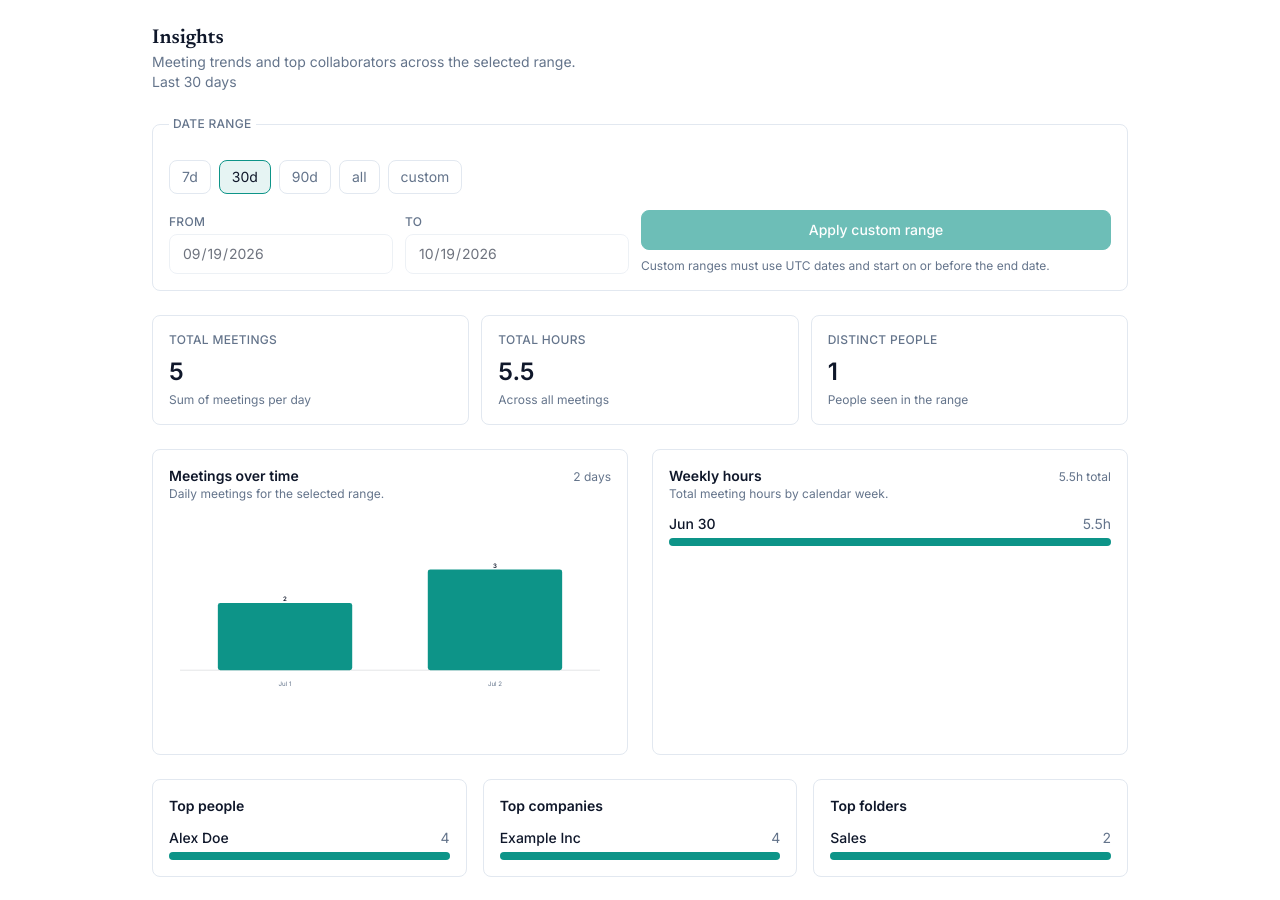
InsightsScreen › reloads insights when a custom range is applied
The width and height of the screenshot is (1280, 900).
Click the button "custom" at (425, 177), box [388,160,462,194]
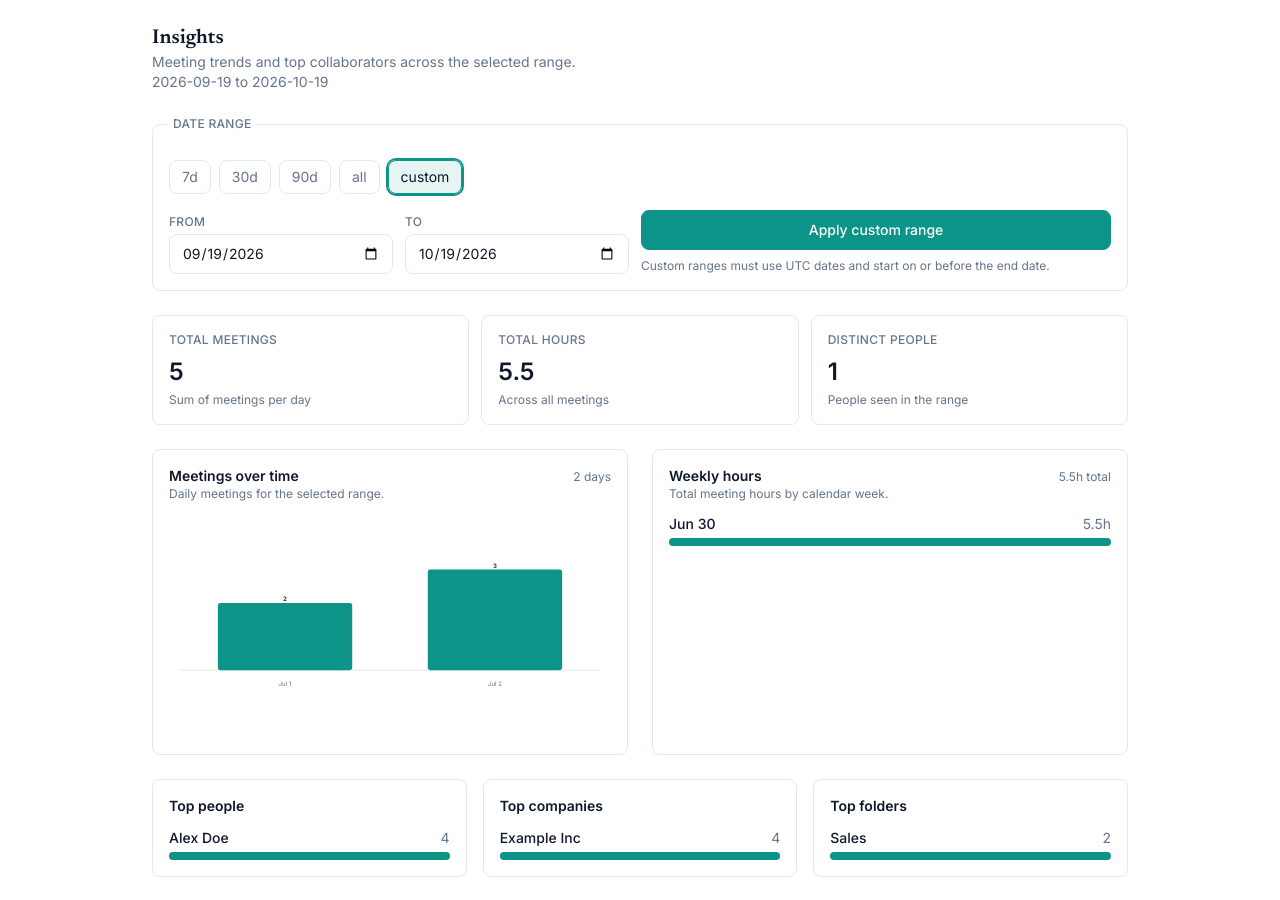
Type "2026-06-01" into the date field named "Custom range start date" at (281, 254), box [169,234,393,274]
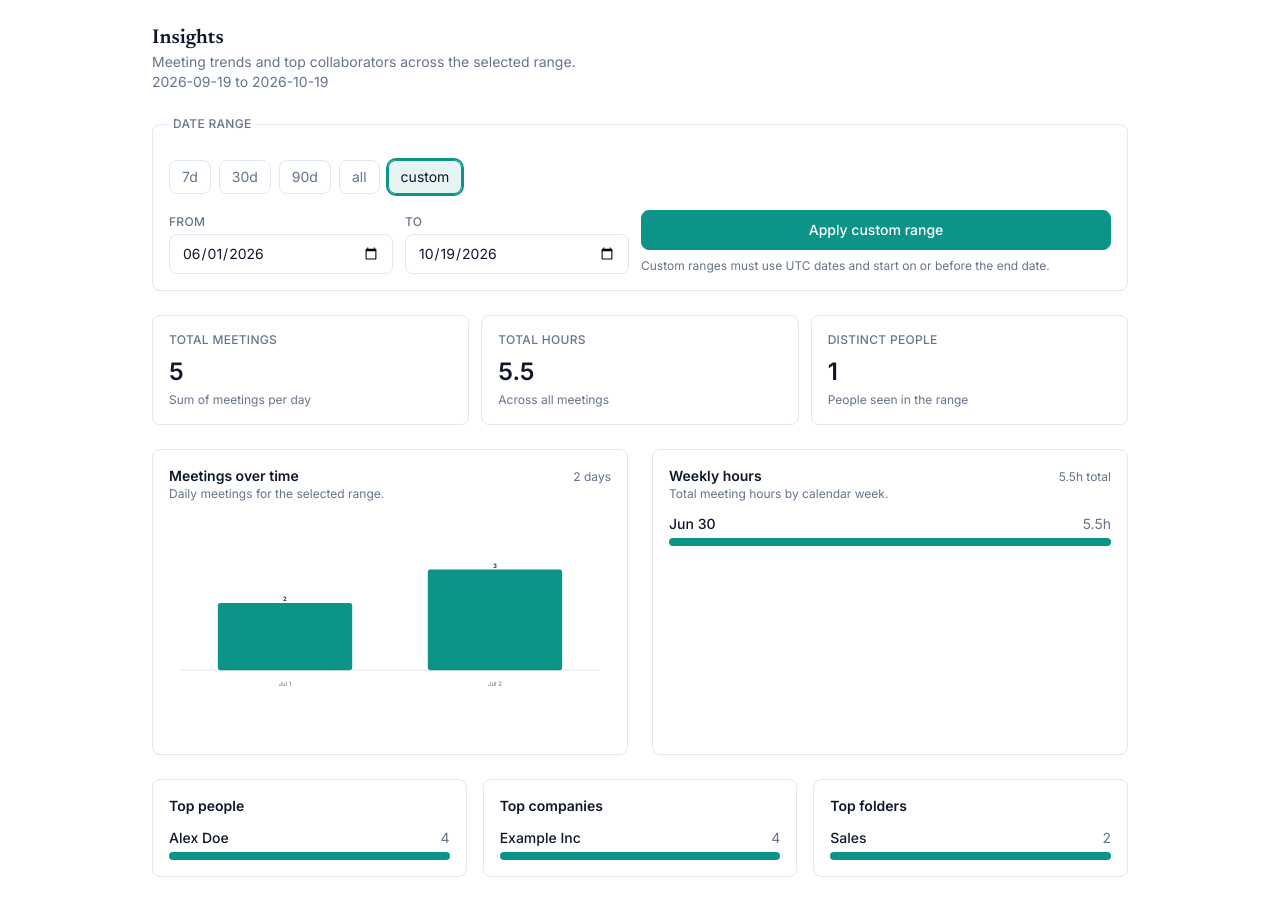
Type "2026-06-20" into the date field named "Custom range end date" at (517, 254), box [405,234,629,274]
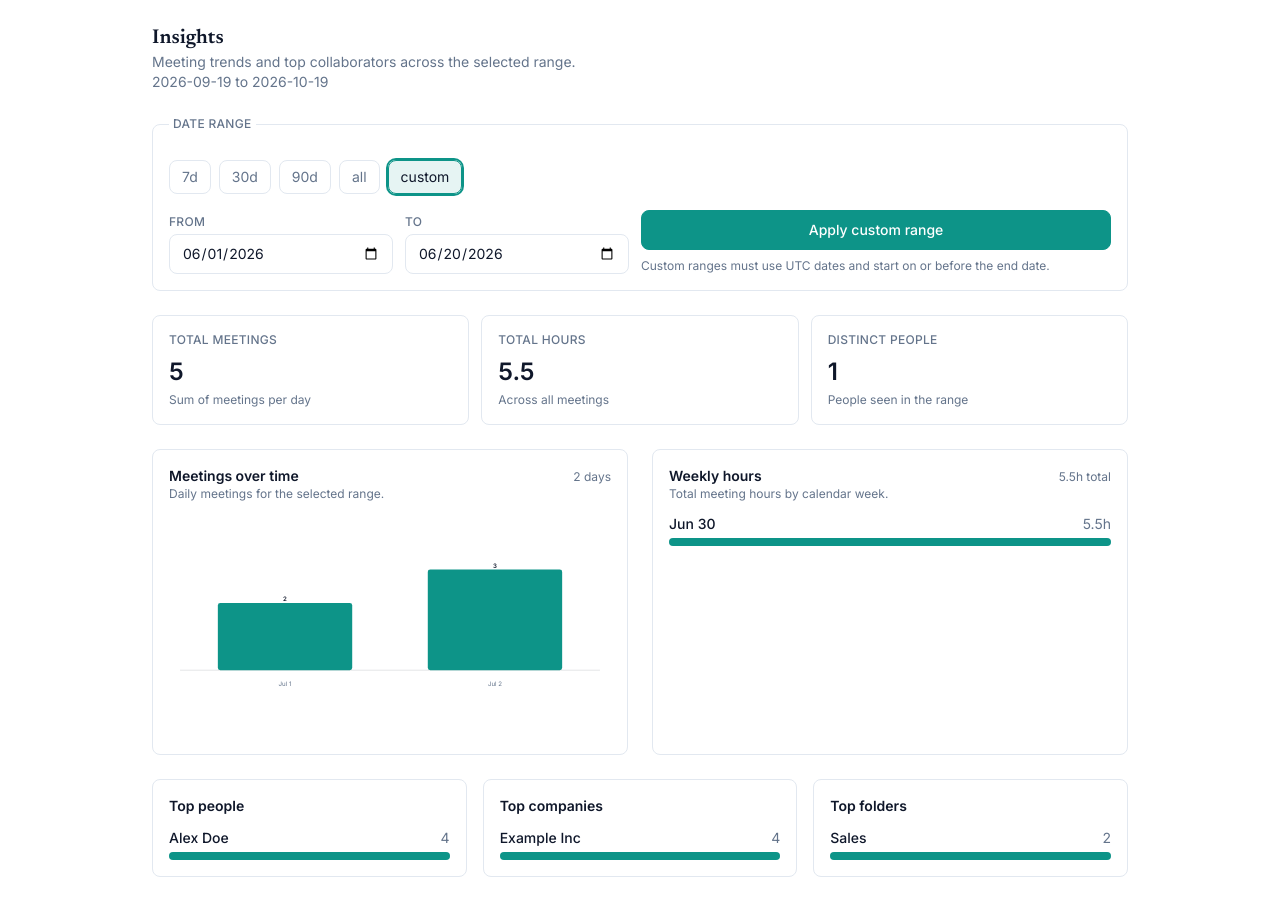
Click the button "Apply custom range" at (876, 230), box [641,210,1111,250]
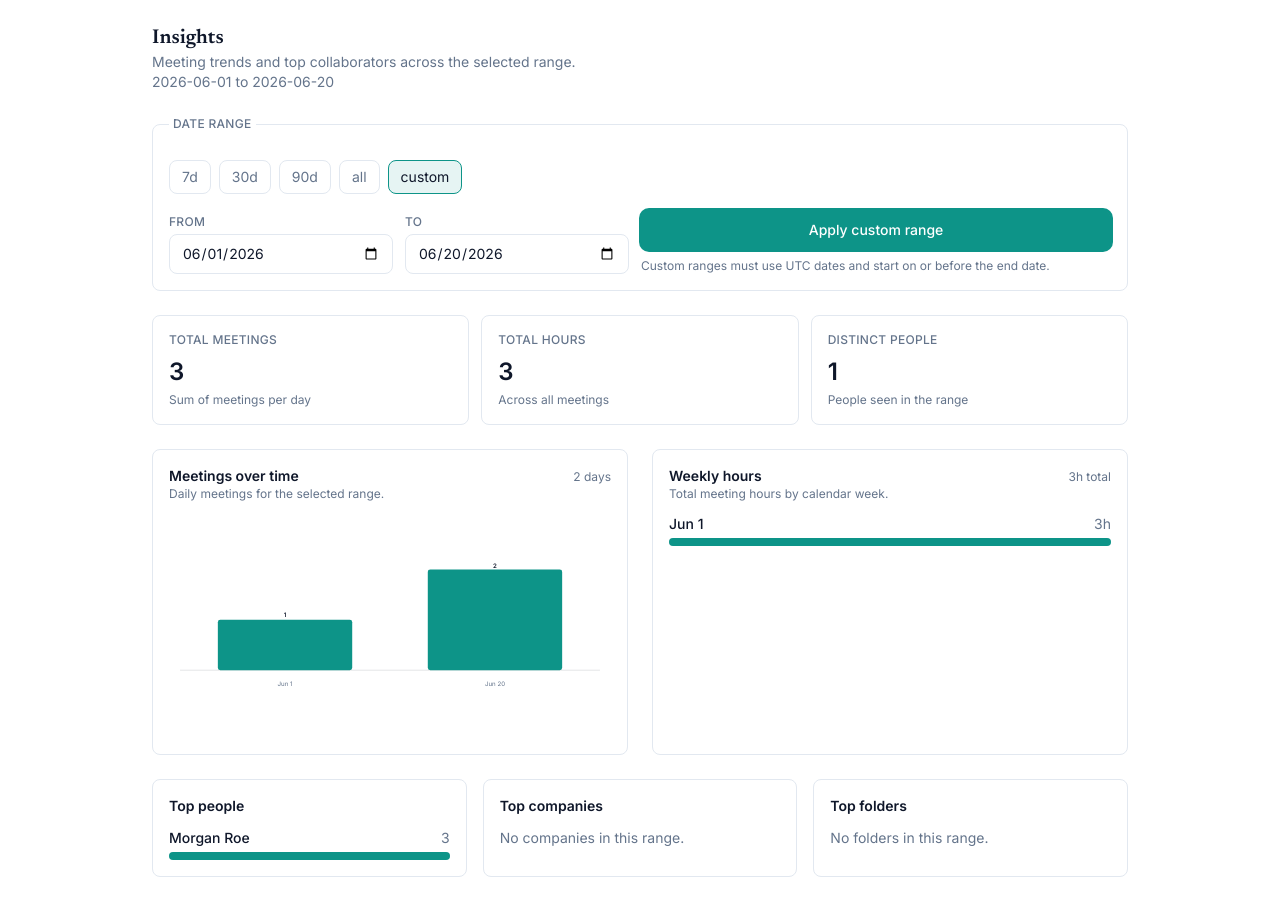
Check: the text "3" below "Total meetings" is shown, box [169,357,184,386]
Check: the text "3" below "Total hours" is shown, box [498,357,514,386]
Check: the text "Morgan Roe" is shown, box [169,828,250,848]
